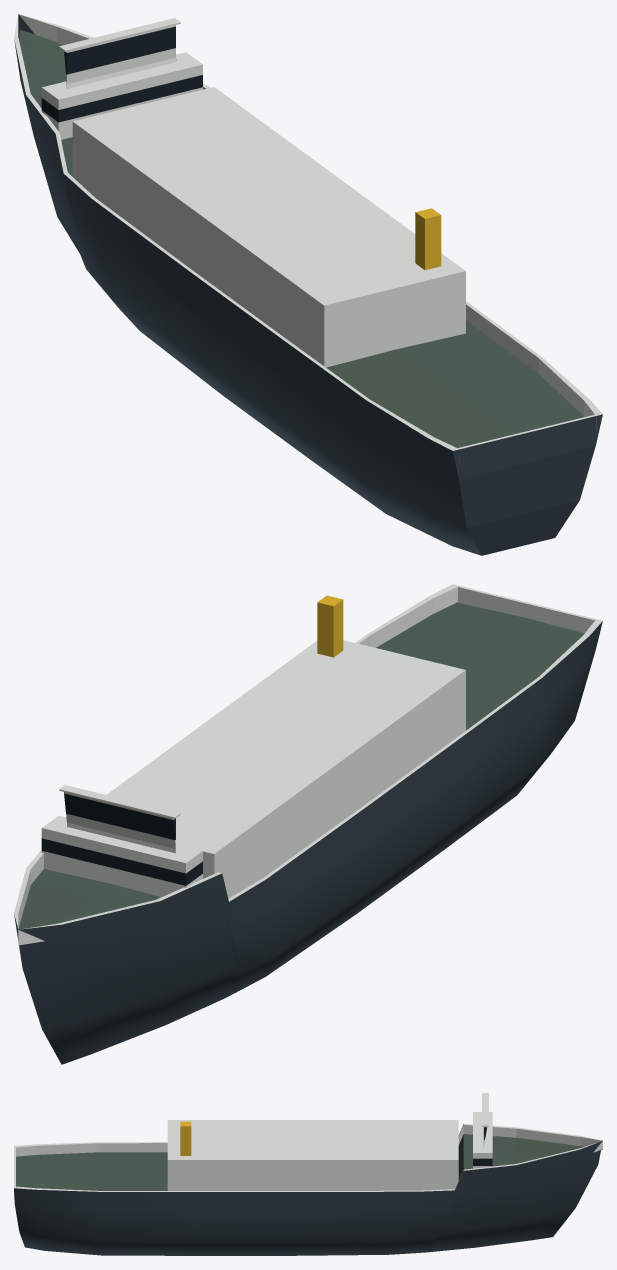
The model's file is feed_barge_large_LOD2.glb.
3 views of the same model, one above another, from view 1: azimuth 30°, elevation 25°; view 2: azimuth 150°, elevation 25°; view 3: azimuth 270°, elevation 25° (orthographic). The views are drawn at different scales.
Visible parts, largest first — view 1: Superstructure, Hull, Deck, Windows, Crane; view 2: Superstructure, Hull, Deck, Windows, Crane; view 3: Hull, Superstructure, Deck, Crane.
Part boxes in pixels (box(x1,y1,x2,y2)): Superstructure: box(14, 14, 602, 464); Hull: box(14, 14, 602, 555); Deck: box(19, 30, 584, 447); Windows: box(41, 26, 202, 122); Crane: box(415, 208, 441, 270); Superstructure: box(14, 584, 602, 945); Hull: box(14, 602, 602, 1064); Deck: box(18, 602, 584, 929); Windows: box(41, 793, 202, 885); Crane: box(317, 595, 343, 657); Hull: box(14, 1141, 602, 1255); Superstructure: box(14, 1093, 602, 1194); Deck: box(16, 1134, 602, 1190); Crane: box(180, 1121, 191, 1155).
Bounding box in the file's own units: 13 × 15.5 × 64.8.
